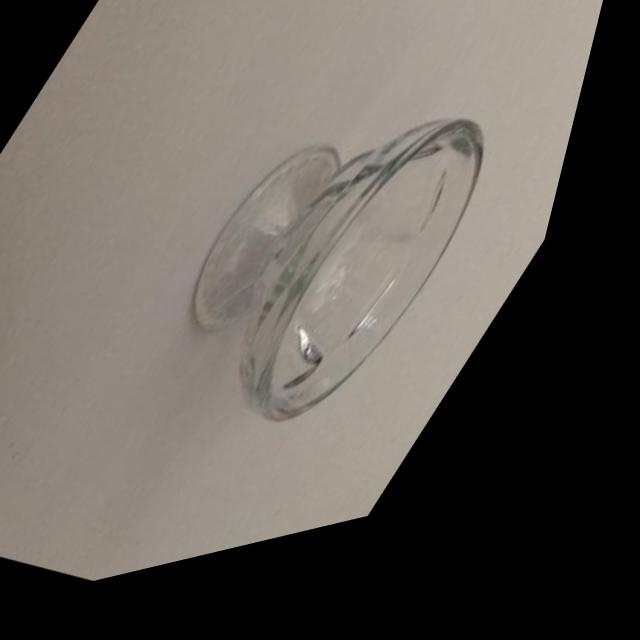glass: (76, 0, 601, 537)
